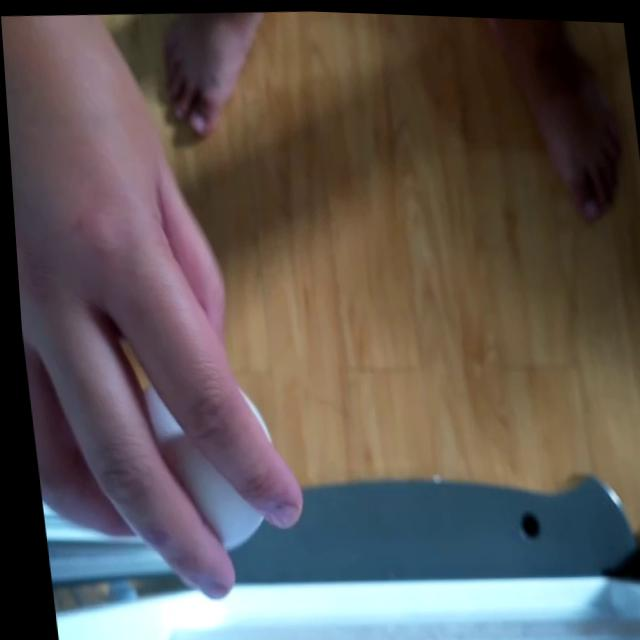egg: (128, 371, 277, 558)
